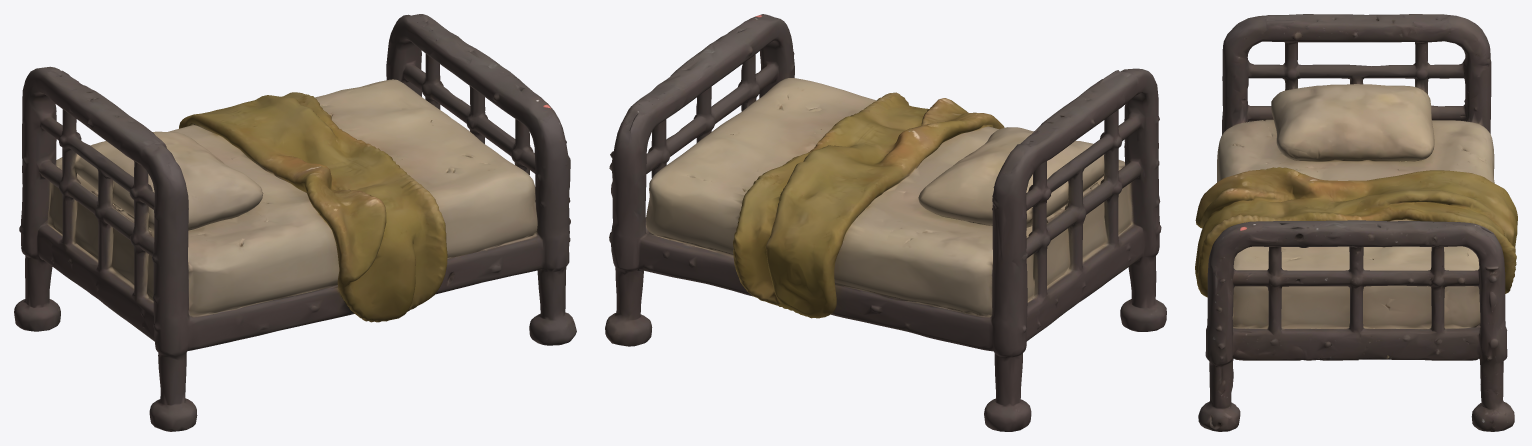
The model's file is bed.glb.
3 views of the same model, side by side, from view 1: azimuth 30°, elevation 25°; view 2: azimuth 150°, elevation 25°; view 3: azimuth 270°, elevation 25° (orthographic). The views are drawn at different scales.
Parts seen in each view (by area): view 1: tripo_node_e7d15d8d-8870-4fd7-a5b3-315b93513c2e; view 2: tripo_node_e7d15d8d-8870-4fd7-a5b3-315b93513c2e; view 3: tripo_node_e7d15d8d-8870-4fd7-a5b3-315b93513c2e.
Boxes of the visible parts, x1,y1,x2,y2 form: tripo_node_e7d15d8d-8870-4fd7-a5b3-315b93513c2e: (14,14,576,431); tripo_node_e7d15d8d-8870-4fd7-a5b3-315b93513c2e: (605,14,1166,431); tripo_node_e7d15d8d-8870-4fd7-a5b3-315b93513c2e: (1195,14,1517,431).
Bounding box in the file's own units: 0.9809 × 0.6051 × 0.7318.
Materials: 1 (1 with a texture image).
